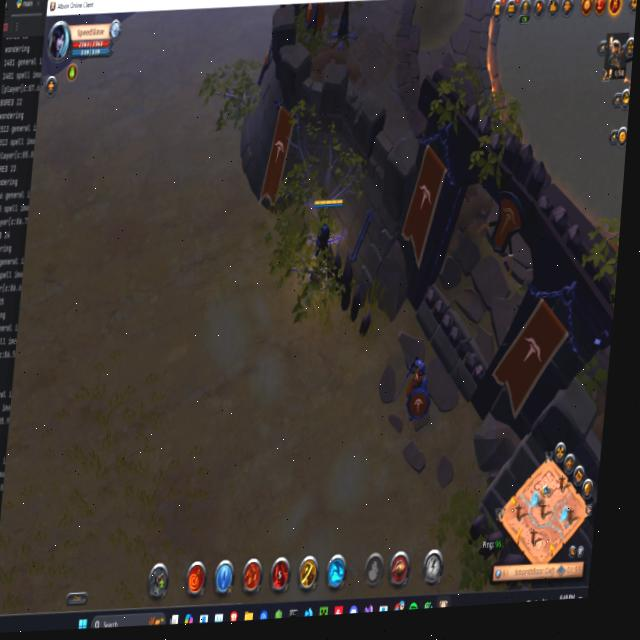red: (306, 192, 344, 264)
